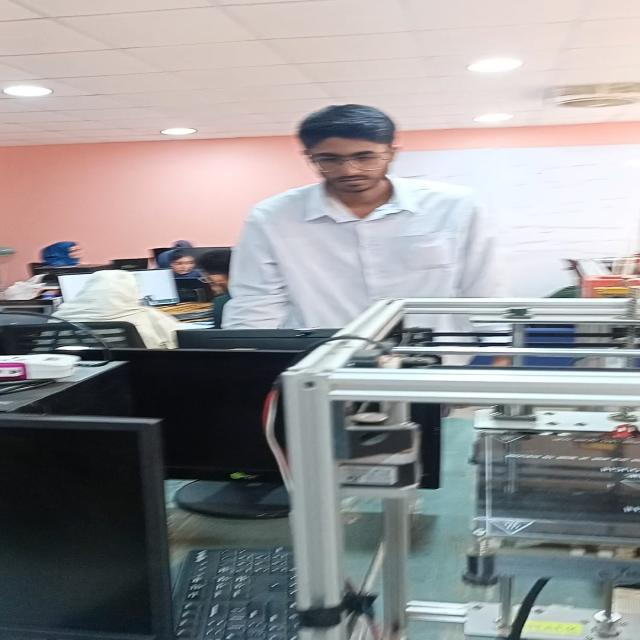dress: (219, 173, 520, 492)
glasses: (310, 149, 398, 167)
